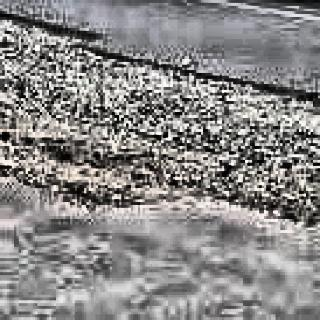crack: (5, 9, 320, 98)
